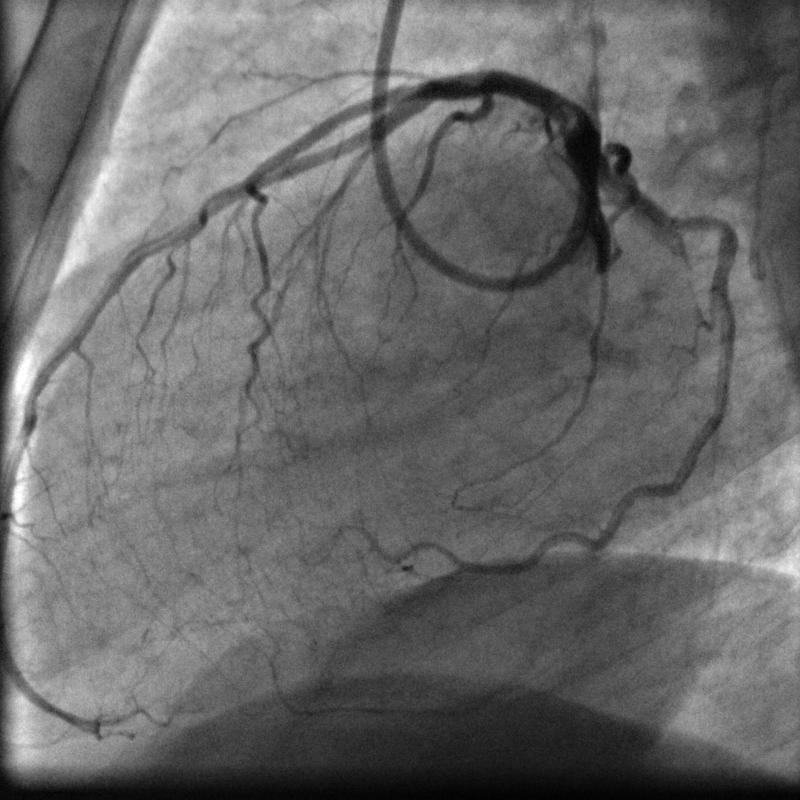Stenosis: (461, 66, 498, 125)
